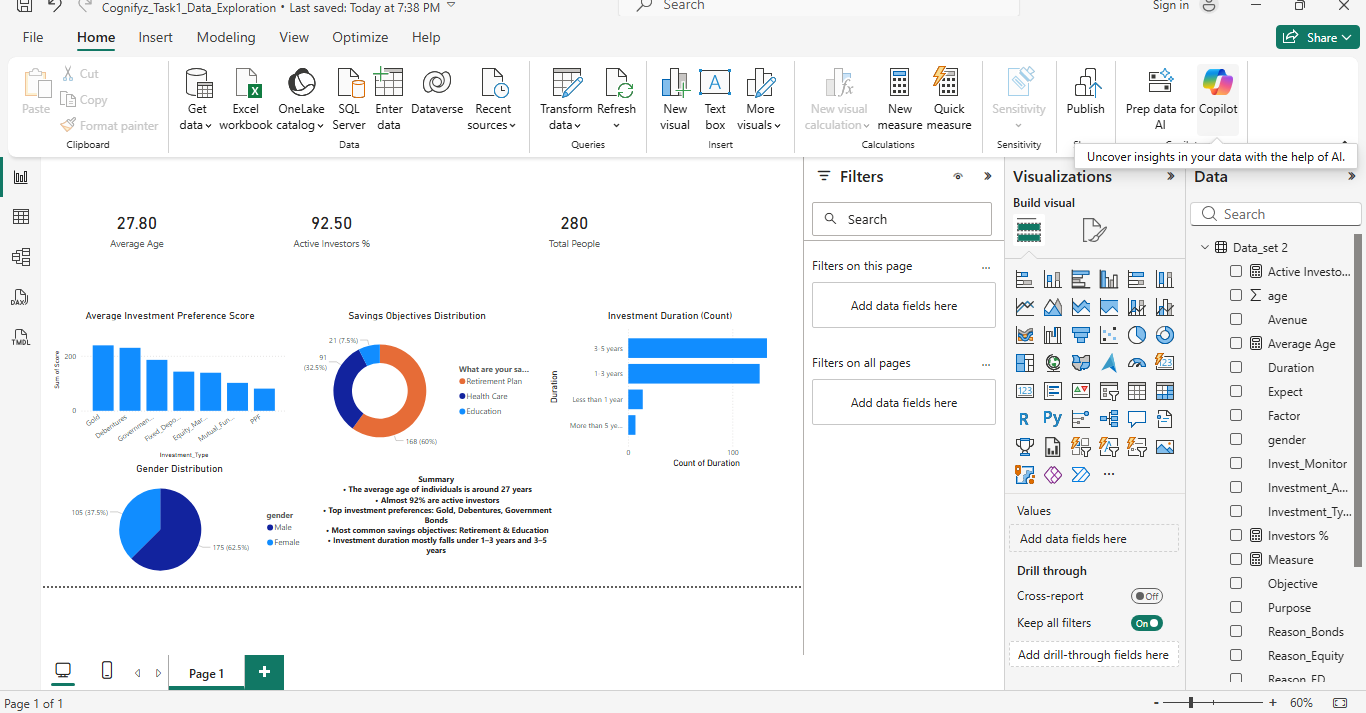

This screenshot's page, from the dashboard's own definition file:
{"tool":"powerbi","page":{"name":"Page 1","canvas":[1280,720],"ordinal":0},"visuals":[{"type":"card","fields":{"Values":["Data_set 2.Average Age"]},"box":[16,0,288,240],"z":0},{"type":"card","fields":{"Values":["Data_set 2.Active Investors %"]},"box":[336,0,304,240],"z":1},{"type":"card","fields":{"Values":["Data_set 2.Total People"]},"box":[736,0,320,240],"z":2},{"type":"clusteredColumnChart","title":"Average Investment Preference Score","fields":{"Category":["Data_set 2.Investment_Type"],"Y":["Sum(Data_set 2.Score)"]},"box":[16,256,400,256],"z":3},{"type":"donutChart","title":"Savings Objectives Distribution","fields":{"Category":["Data_set 2.What are your savings objectives?"],"Y":["CountNonNull(Data_set 2.What are your savings objectives?)"]},"box":[432,256,400,256],"z":4},{"type":"clusteredBarChart","title":"Investment Duration (Count)","fields":{"Category":["Data_set 2.Duration"],"Y":["CountNonNull(Data_set 2.Duration)"]},"box":[848,256,416,272],"z":5},{"type":"pieChart","title":"Gender Distribution","fields":{"Category":["Data_set 2.gender"],"Y":["CountNonNull(Data_set 2.gender)"]},"box":[16,512,432,208],"z":6},{"type":"textbox","box":[464,528,400,192],"z":7}]}

Visuals, with their boxes on the page's 1280x720 design canvas (x1, y1, x2, y2). These are canvas units, not pixel positions in the 1366x713 screenshot, which may show the page scaled, cropped or inside an application window:
card - Data_set 2.Average Age: box=[16, 0, 304, 240]
card - Data_set 2.Active Investors %: box=[336, 0, 640, 240]
card - Data_set 2.Total People: box=[736, 0, 1056, 240]
"Average Investment Preference Score" clusteredColumnChart: box=[16, 256, 416, 512]
"Savings Objectives Distribution" donutChart: box=[432, 256, 832, 512]
"Investment Duration (Count)" clusteredBarChart: box=[848, 256, 1264, 528]
"Gender Distribution" pieChart: box=[16, 512, 448, 720]
textbox: box=[464, 528, 864, 720]
